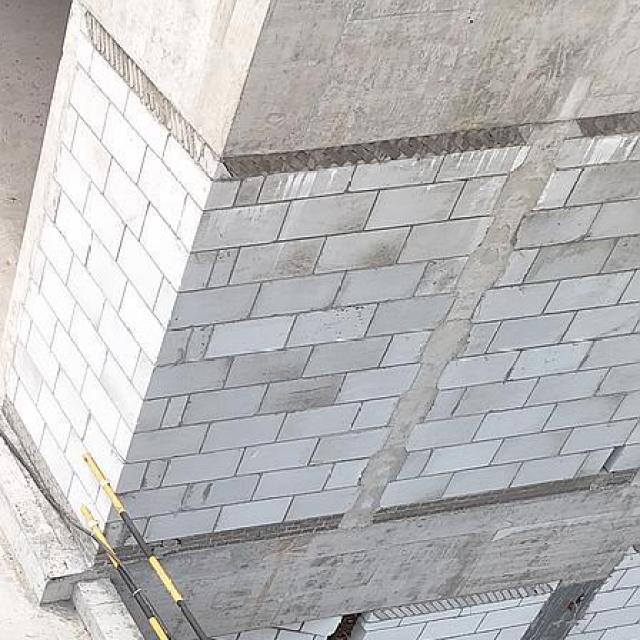edge_guardrail: (76, 451, 211, 640)
